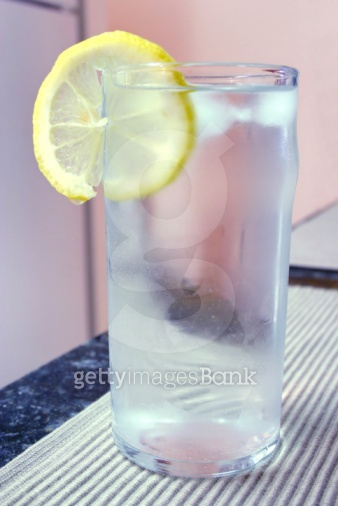glass of water: (103, 58, 285, 470)
